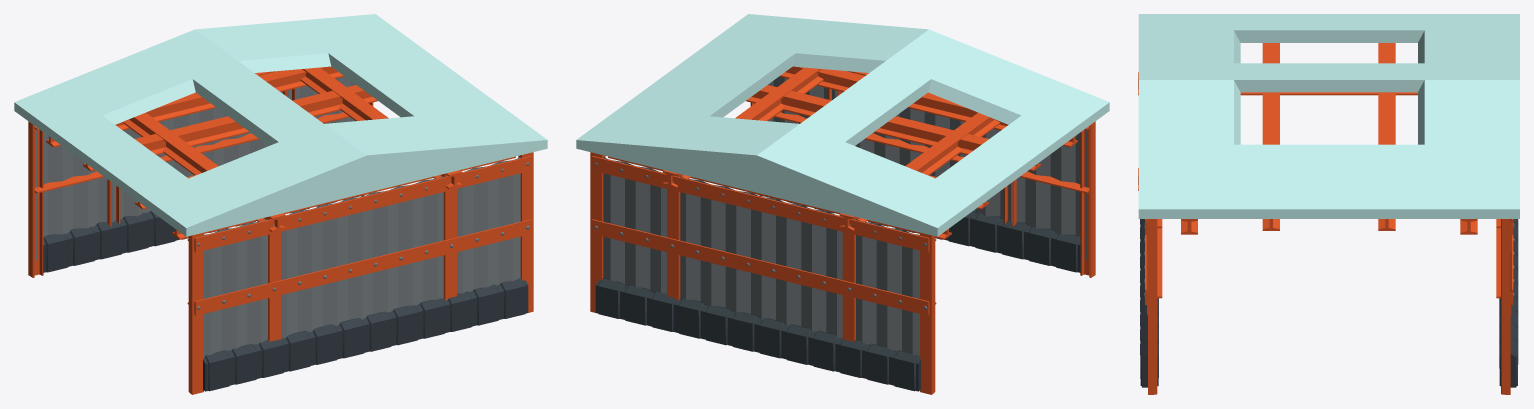
Rendered from Galpon.fbx.
3 renders of one model, left to right at view 1: azimuth 30°, elevation 25°; view 2: azimuth 150°, elevation 25°; view 3: azimuth 270°, elevation 25°, orthographic. The views are drawn at different scales.
Parts seen in each view (by area): view 1: Galpon; view 2: Galpon; view 3: Galpon.
Boxes of the visible parts, x1,y1,x2,y2 form: Galpon: (14, 14, 547, 394); Galpon: (576, 14, 1109, 394); Galpon: (1138, 14, 1519, 394).
Bounding box in the file's own units: 2687 × 1428 × 2219.
